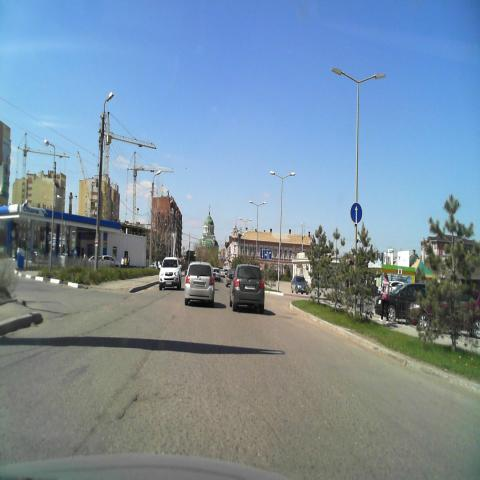4_1_1: (350, 201, 363, 224)
5_15_7: (260, 248, 272, 260)
